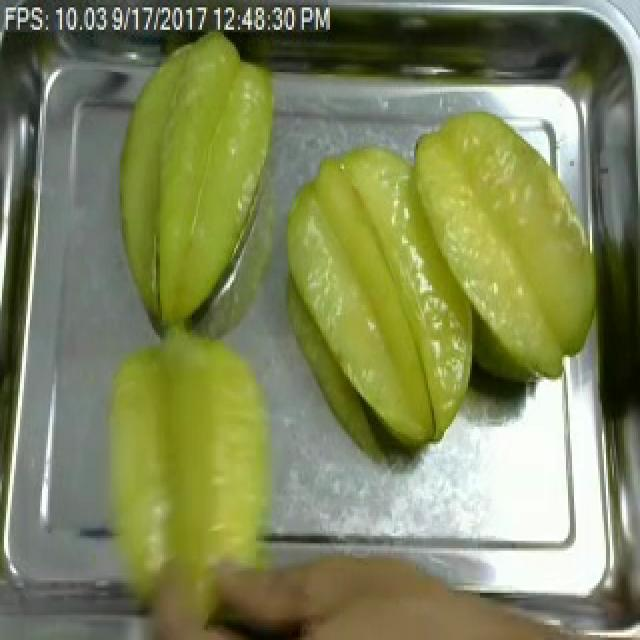fruit: (268, 116, 494, 466), (72, 307, 306, 640), (392, 99, 612, 397), (102, 22, 284, 342)
